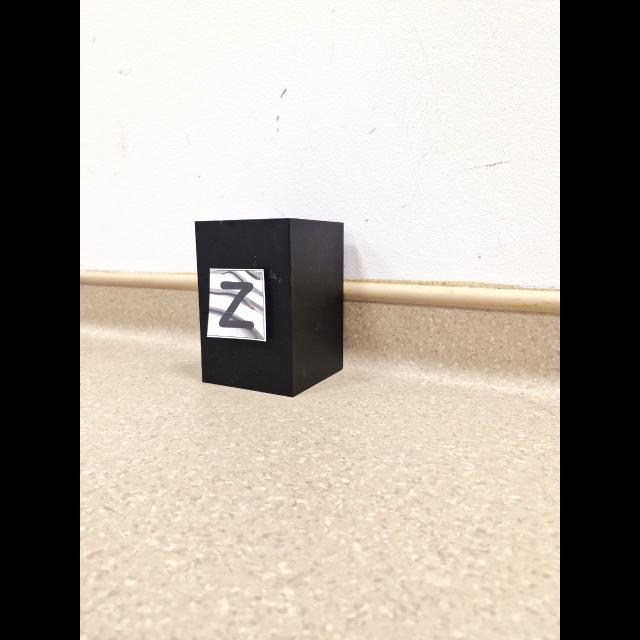Z: (219, 281, 254, 330)
